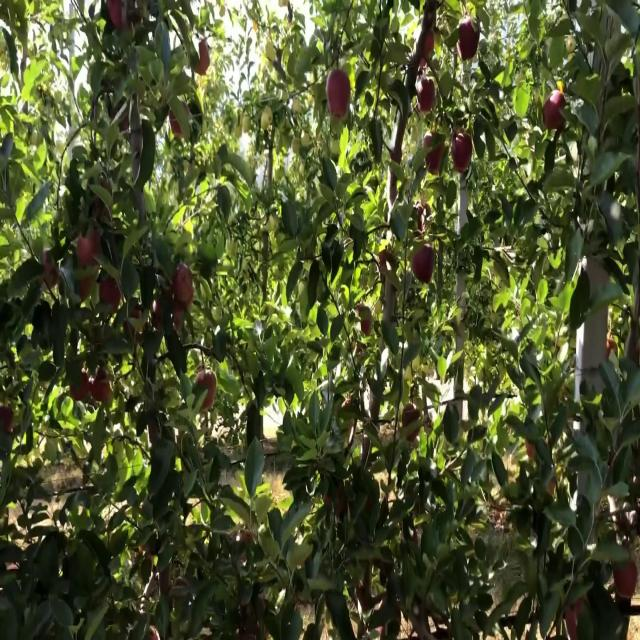apple: (108, 0, 143, 34), (328, 71, 352, 119), (76, 227, 102, 268), (616, 561, 640, 603), (416, 28, 437, 75), (172, 270, 196, 308), (544, 92, 566, 133), (412, 248, 436, 284), (452, 135, 473, 176), (424, 135, 445, 176), (196, 369, 216, 412), (460, 21, 480, 64), (324, 483, 346, 519), (92, 184, 112, 222), (100, 277, 122, 311), (416, 78, 436, 114), (92, 369, 112, 405), (192, 42, 212, 78), (124, 305, 144, 340), (72, 369, 91, 405), (40, 255, 59, 290), (404, 405, 422, 441), (108, 0, 127, 34), (568, 604, 586, 639), (168, 106, 187, 139), (168, 106, 186, 139), (416, 206, 431, 233), (152, 298, 164, 331), (80, 277, 95, 302), (172, 305, 184, 334), (380, 248, 392, 276), (360, 312, 372, 336), (148, 419, 160, 443), (4, 405, 13, 434), (528, 440, 536, 460)
